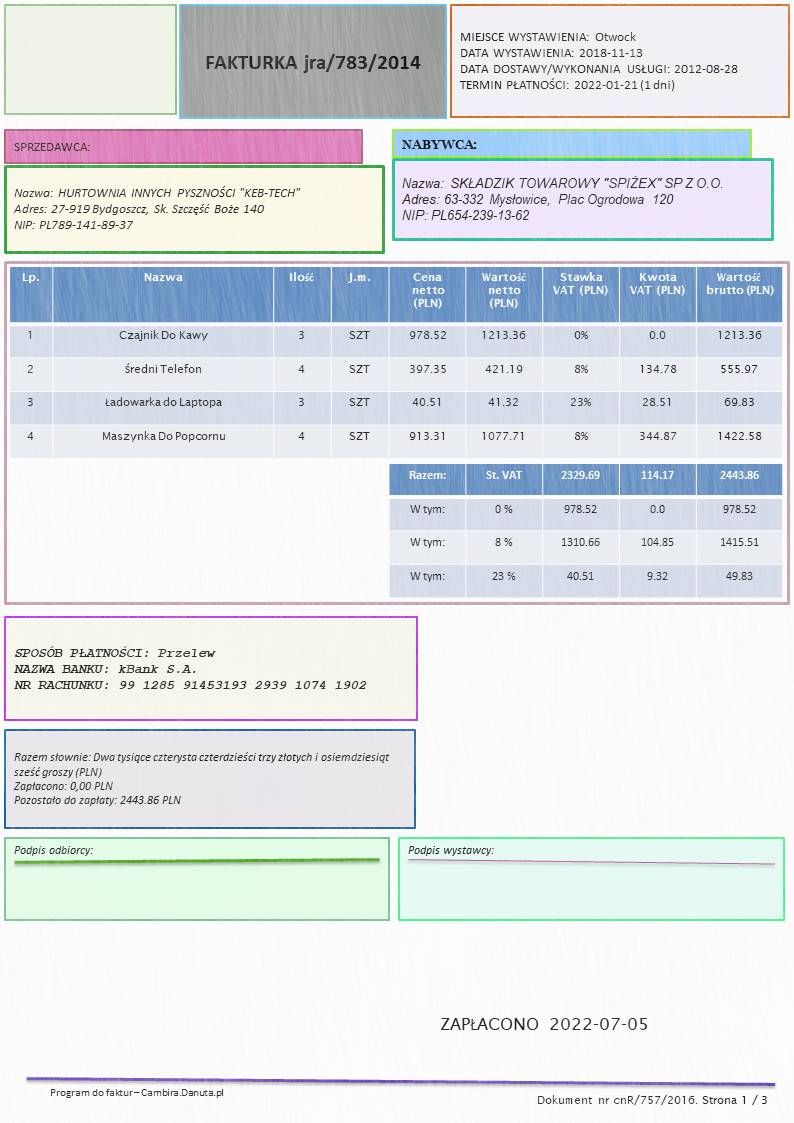Table: (8, 264, 783, 459), (388, 461, 782, 598)
TextBox: (11, 748, 392, 809), (457, 27, 742, 94), (13, 642, 368, 695), (398, 172, 724, 227), (11, 183, 302, 236), (201, 50, 424, 74), (437, 1012, 648, 1034), (535, 1091, 770, 1108), (47, 1083, 227, 1100), (404, 841, 495, 860), (9, 137, 91, 156), (12, 840, 94, 859), (398, 135, 479, 153)
